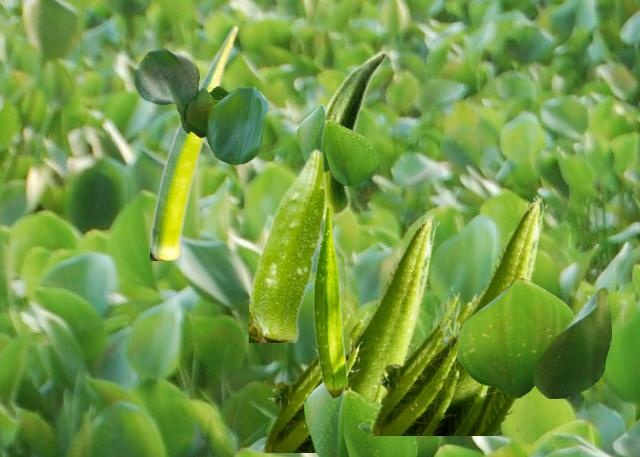okra: (260, 211, 439, 451), (368, 194, 547, 434), (150, 24, 237, 259), (249, 147, 326, 341), (324, 50, 387, 221), (313, 204, 347, 398)
